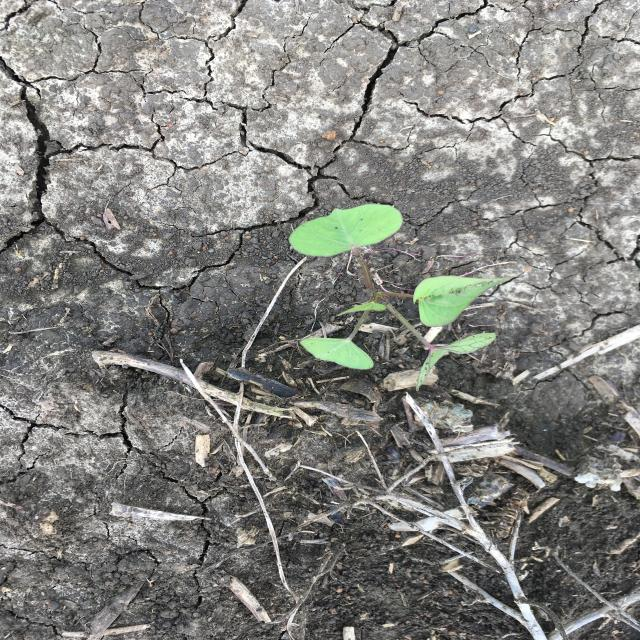MorningGlory: (286, 202, 518, 392)
